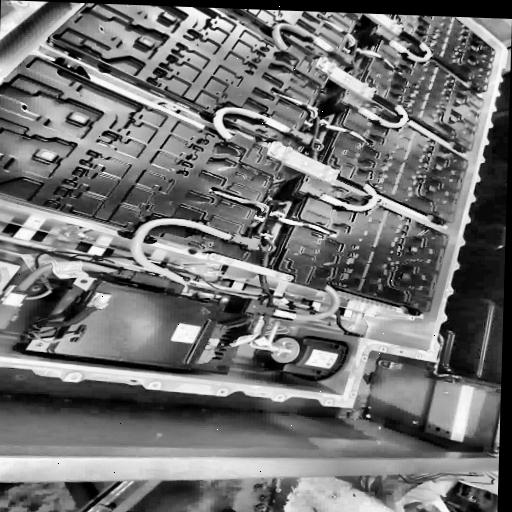high_volt_cable: (0, 212, 266, 305), (194, 88, 418, 156), (256, 18, 439, 71), (296, 176, 385, 216)
low_volt_cable: (199, 186, 342, 356)
nut: (282, 145, 295, 153), (222, 257, 234, 264), (273, 141, 285, 148), (278, 153, 290, 160), (331, 168, 342, 175), (271, 272, 283, 278), (284, 275, 294, 282), (316, 172, 326, 179), (269, 150, 280, 156), (211, 255, 221, 261), (322, 164, 330, 170)
